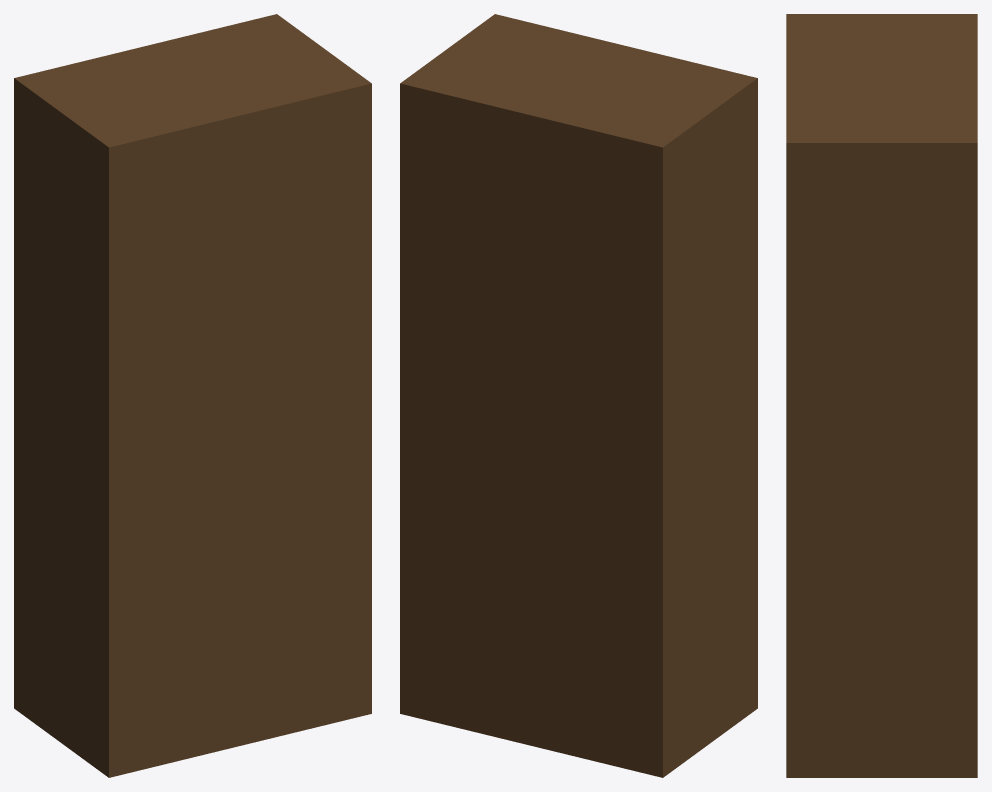
The model's file is fort-scaffold.tone-v1.lod2.glb.
3 renders of one model, left to right at view 1: azimuth 30°, elevation 25°; view 2: azimuth 150°, elevation 25°; view 3: azimuth 270°, elevation 25°, orthographic.
Visible parts, largest first — view 1: fort-scaffold; view 2: fort-scaffold; view 3: fort-scaffold.
Boxes of the visible parts, x1,y1,x2,y2 form: fort-scaffold: [14, 14, 371, 777]; fort-scaffold: [400, 14, 757, 777]; fort-scaffold: [786, 14, 977, 777].
Bounding box in the file's own units: 9.6 × 22 × 6.
